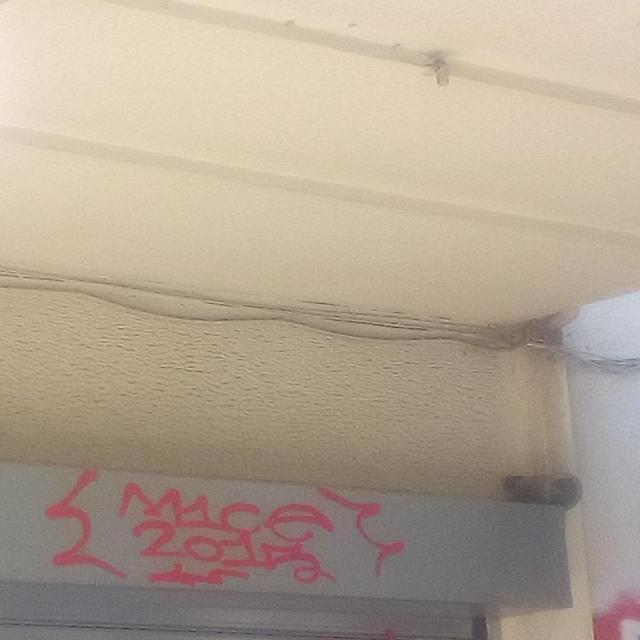nonspitting: (47, 468, 408, 587)
